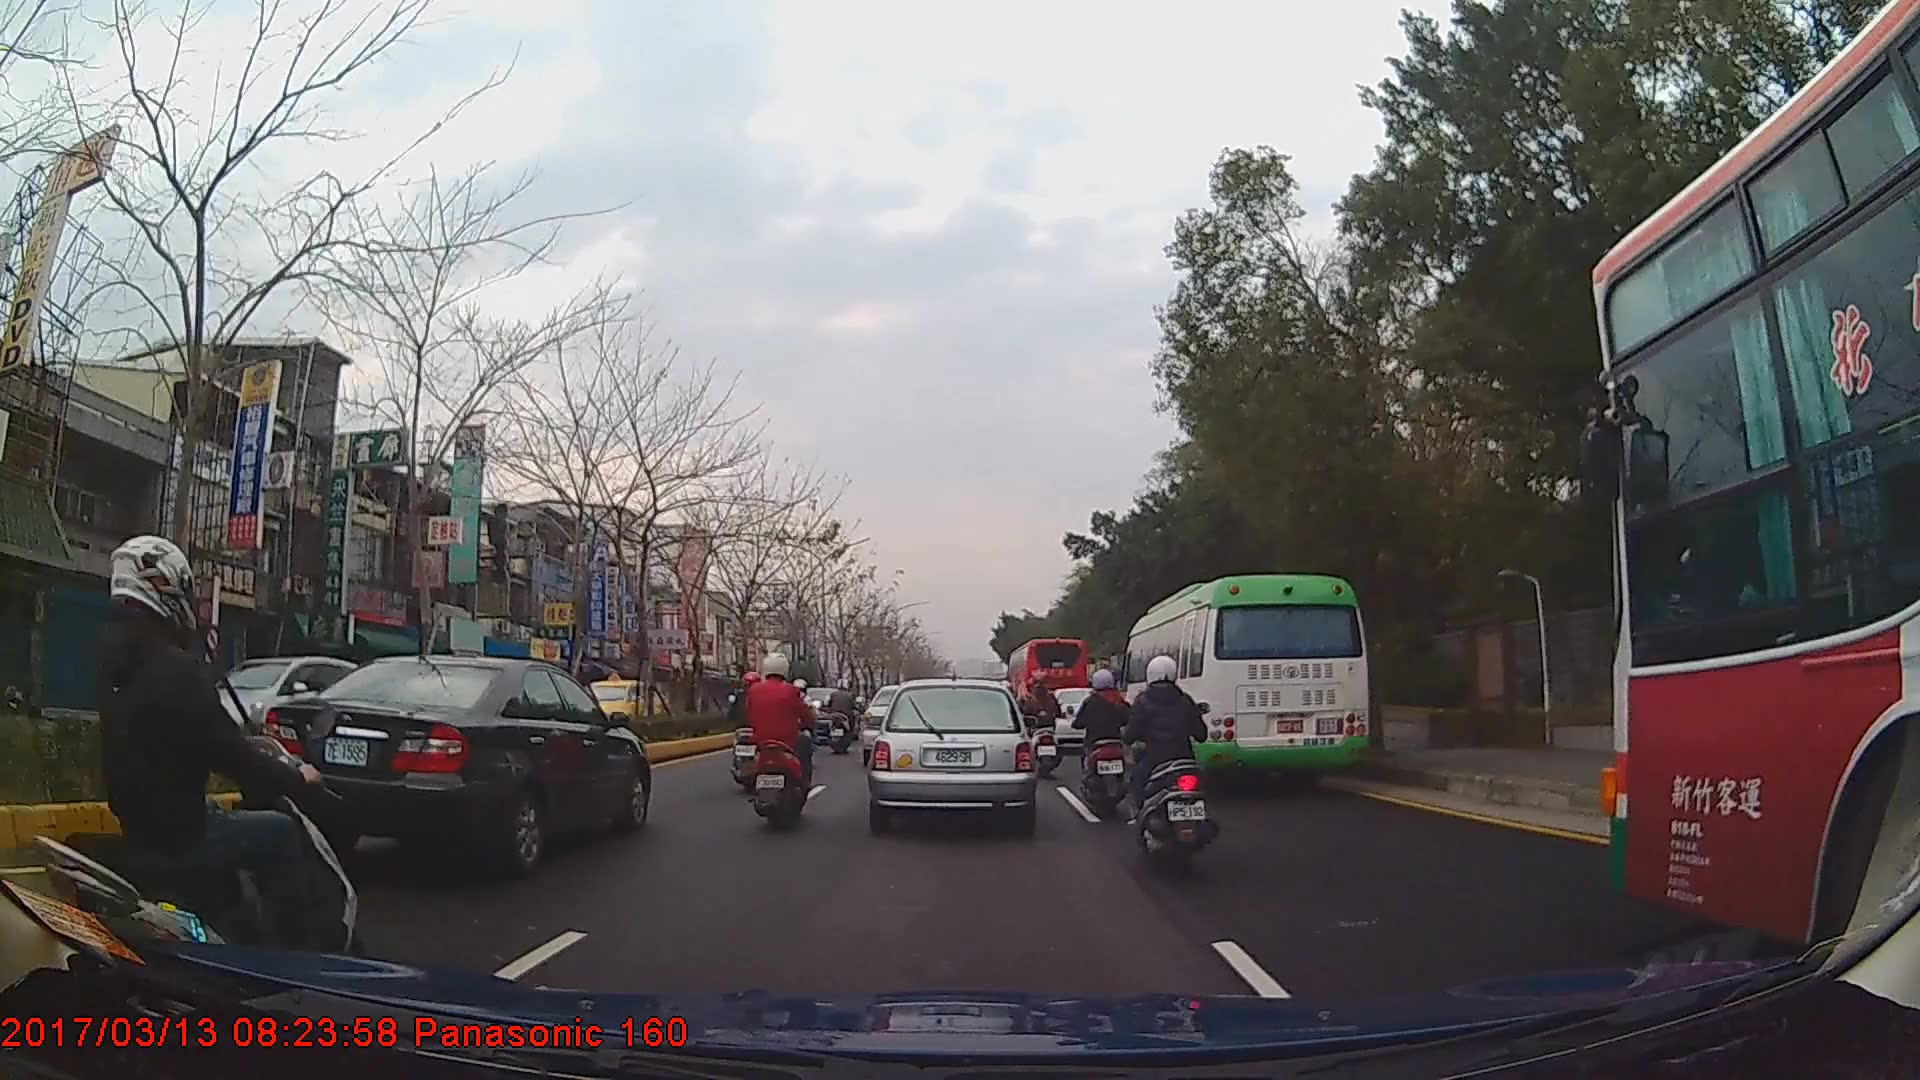rider: (41, 532, 350, 1005), (1129, 652, 1222, 879), (742, 648, 813, 833), (1070, 666, 1137, 818), (1023, 670, 1066, 780), (830, 678, 866, 754)
vehicle: (1591, 0, 1920, 973), (256, 654, 651, 872), (1118, 572, 1375, 790), (869, 677, 1035, 830), (180, 649, 372, 754), (1008, 634, 1092, 730), (562, 668, 668, 734)
